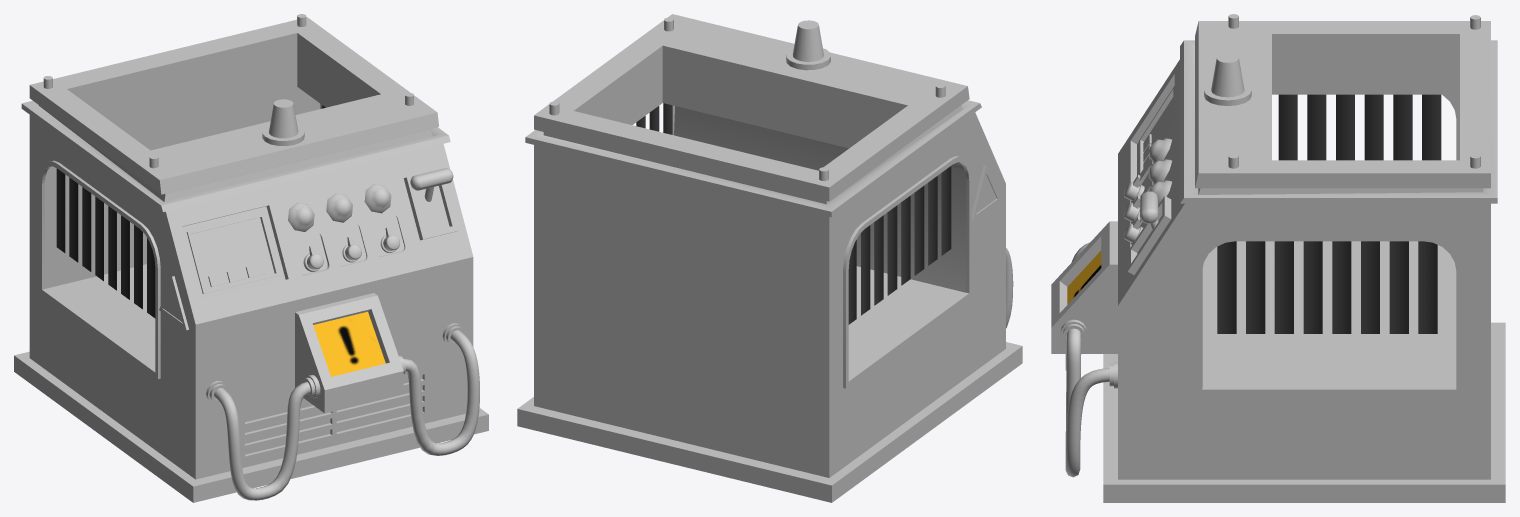
The model's file is Machn_v3_5.fbx.
The picture shows the model from 3 angles, left to right: view 1: azimuth 30°, elevation 25°; view 2: azimuth 150°, elevation 25°; view 3: azimuth 270°, elevation 25°; orthographic projection. The views are drawn at different scales.
Parts seen in each view (by area): view 1: Machn_v3_5, Plane_1.012, AlertOrange.004, Pc_2.002; view 2: Machn_v3_5, Plane_1.012, AlertOrange.004, Plane_2.012; view 3: Machn_v3_5, Plane_2.012, Plane_1.012, AlertOrange.004, Pc_2.002.
Part boxes in pixels (bbox=[...]): Machn_v3_5: bbox=[14, 14, 488, 502]; Plane_1.012: bbox=[56, 168, 155, 318]; AlertOrange.004: bbox=[262, 99, 304, 145]; Pc_2.002: bbox=[410, 168, 453, 201]; Machn_v3_5: bbox=[517, 14, 1022, 502]; Plane_1.012: bbox=[848, 166, 951, 324]; AlertOrange.004: bbox=[786, 20, 830, 70]; Plane_2.012: bbox=[636, 103, 672, 134]; Machn_v3_5: bbox=[1051, 14, 1505, 502]; Plane_2.012: bbox=[1217, 241, 1437, 333]; Plane_1.012: bbox=[1278, 94, 1441, 160]; AlertOrange.004: bbox=[1204, 53, 1251, 105]; Pc_2.002: bbox=[1140, 191, 1158, 230].
Bounding box in the file's own units: 263 × 275 × 312.
